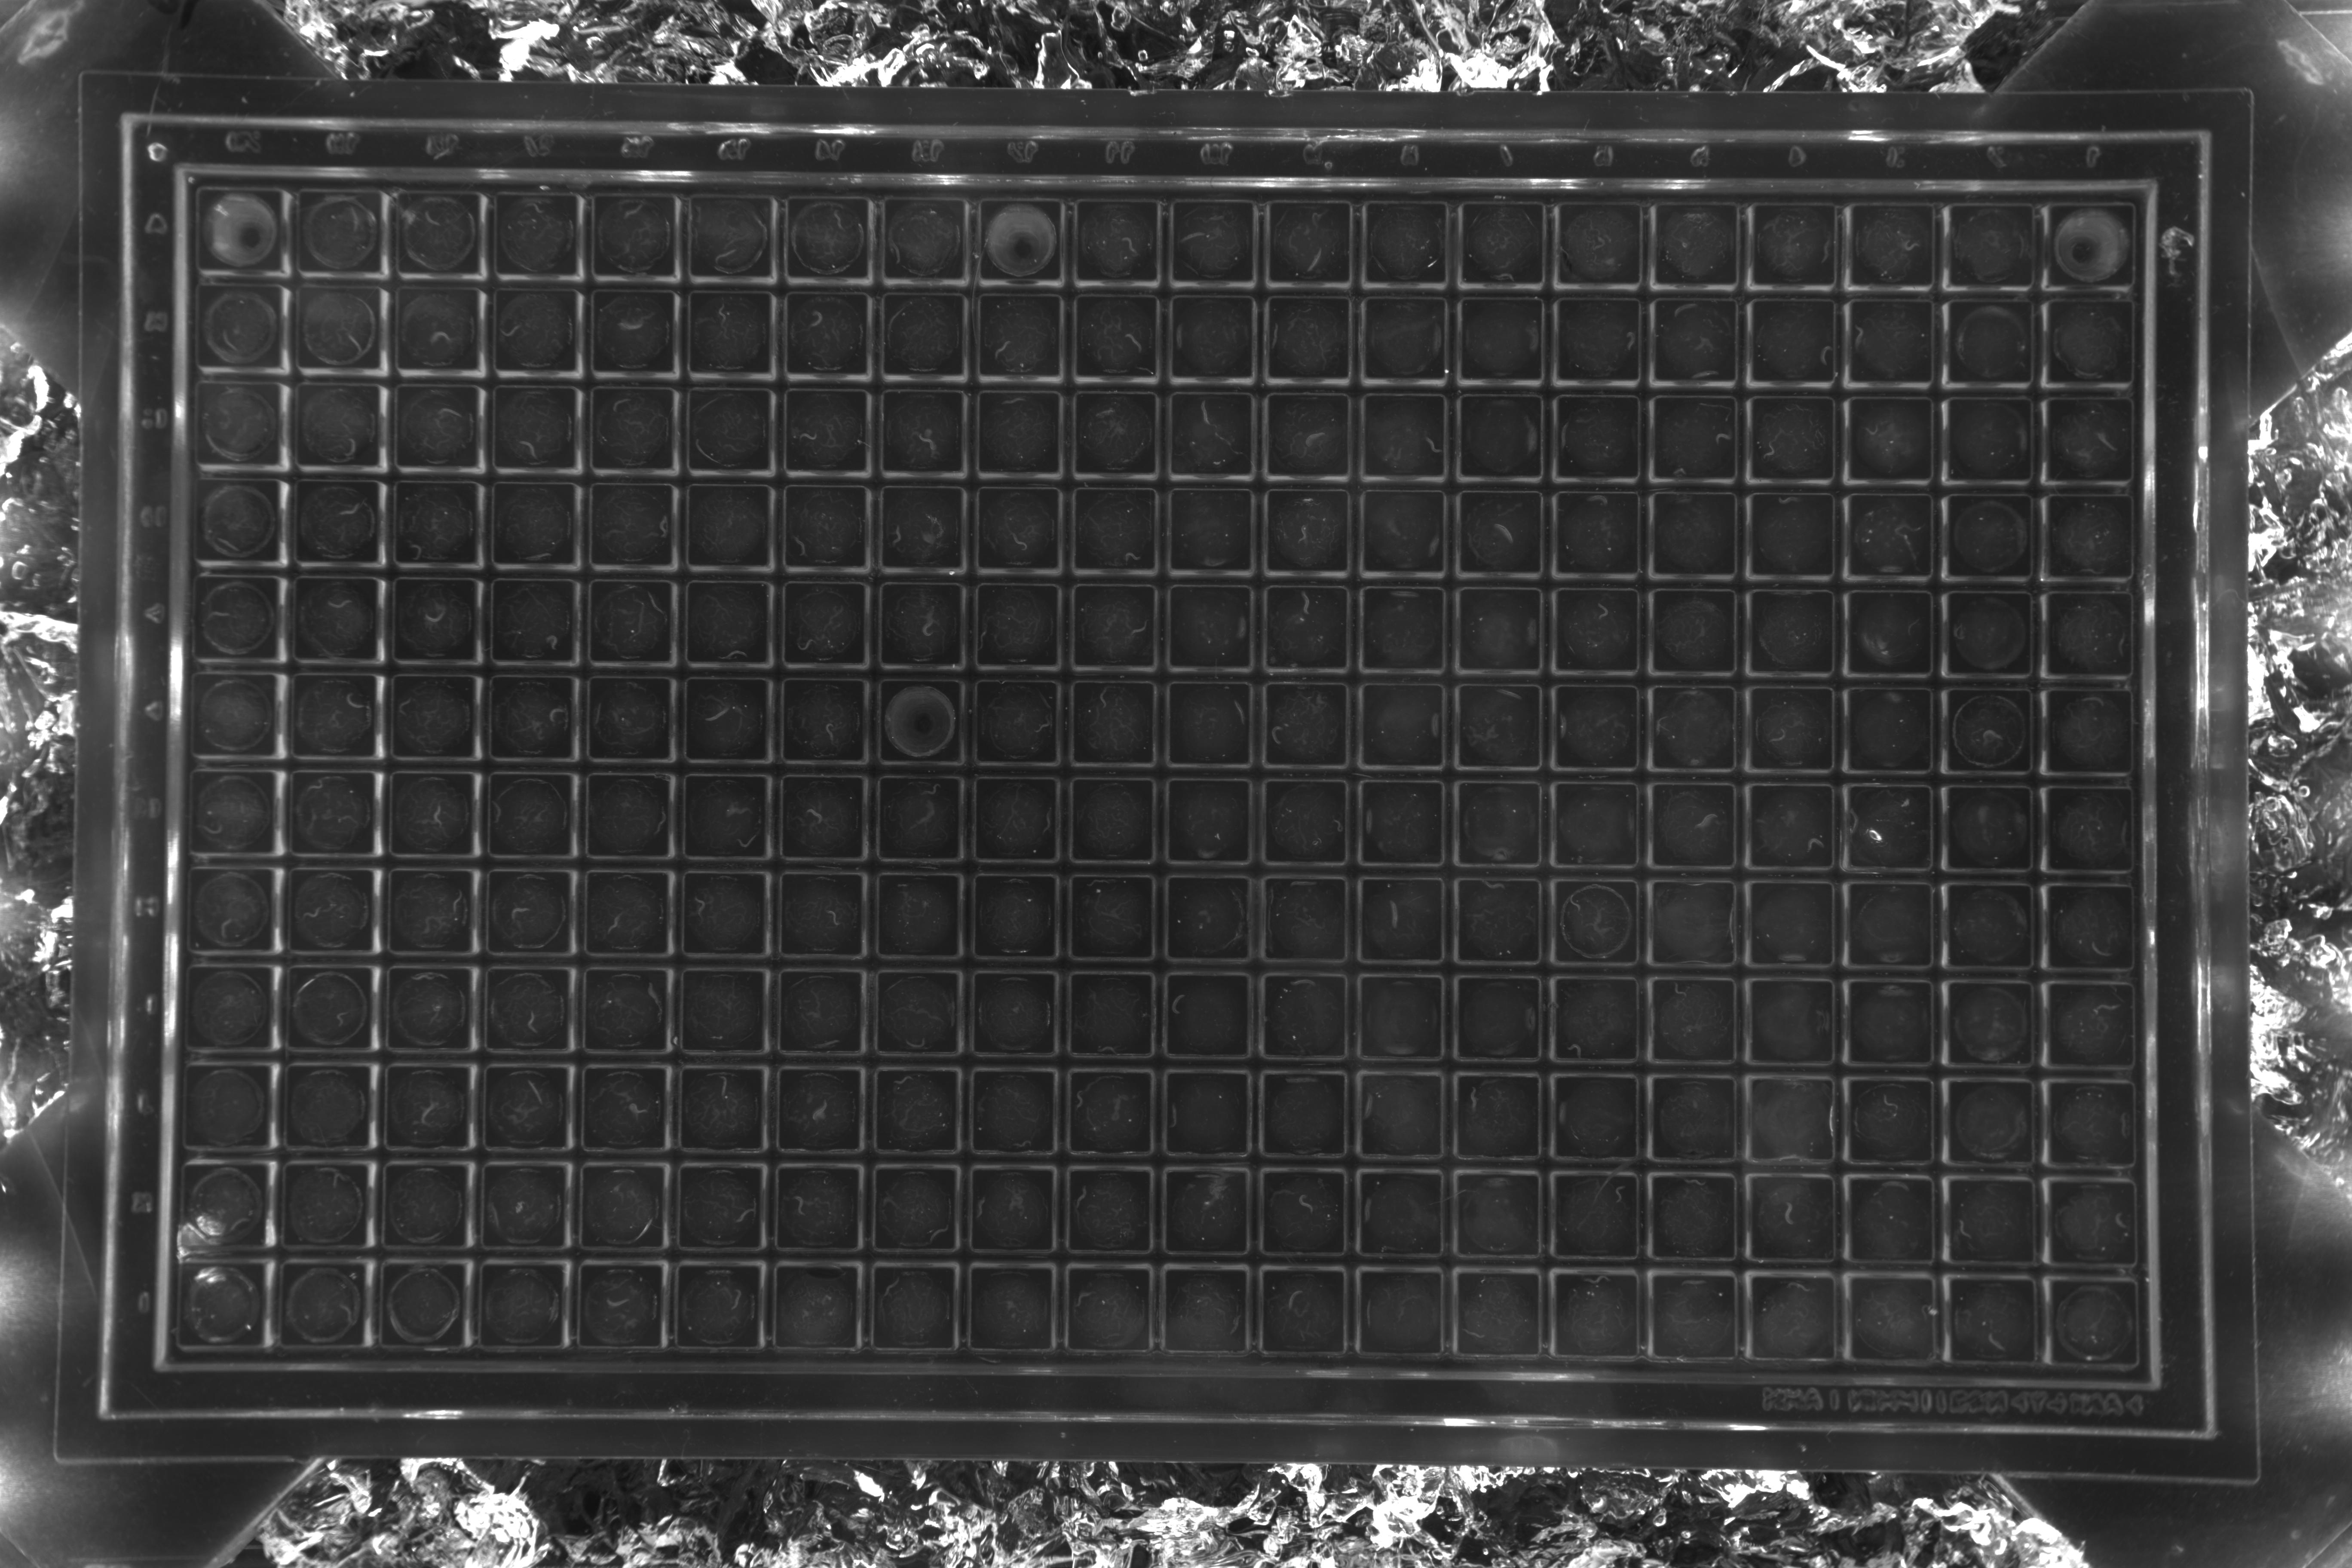WM_well: (397, 847, 486, 934), (492, 1043, 581, 1130), (588, 1143, 677, 1230), (689, 947, 779, 1034), (982, 947, 1071, 1034), (289, 1342, 376, 1430), (303, 651, 390, 738), (390, 1242, 478, 1330), (401, 360, 488, 448), (588, 1241, 675, 1328), (983, 366, 1071, 453), (1080, 464, 1167, 551), (1080, 269, 1167, 357), (1176, 464, 1263, 551), (1176, 560, 1263, 647), (1274, 850, 1361, 938), (1274, 1045, 1361, 1132), (1368, 464, 1456, 551), (1370, 850, 1458, 938), (1465, 367, 1552, 455), (1564, 754, 1652, 842), (1860, 854, 1948, 941), (1865, 1349, 1953, 1437), (1956, 268, 2044, 355), (1958, 658, 2046, 745)
